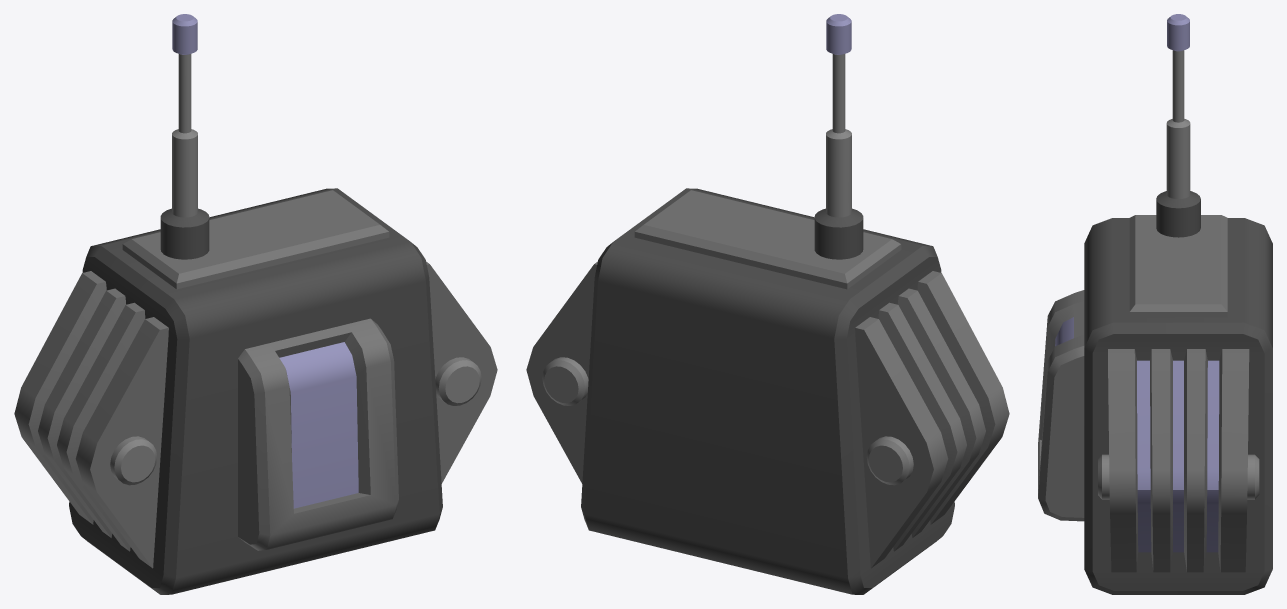
File: Radio.fbx
3 views of the same model, side by side, from view 1: azimuth 30°, elevation 25°; view 2: azimuth 150°, elevation 25°; view 3: azimuth 270°, elevation 25° (orthographic). The views are drawn at different scales.
Visible parts, largest first — view 1: Radio; view 2: Radio; view 3: Radio.
Part boxes in pixels (bbox=[...]): Radio: bbox=[14, 14, 497, 594]; Radio: bbox=[526, 14, 1009, 594]; Radio: bbox=[1038, 14, 1272, 594].
Bounding box in the file's own units: 49.81 × 62.57 × 27.3.
